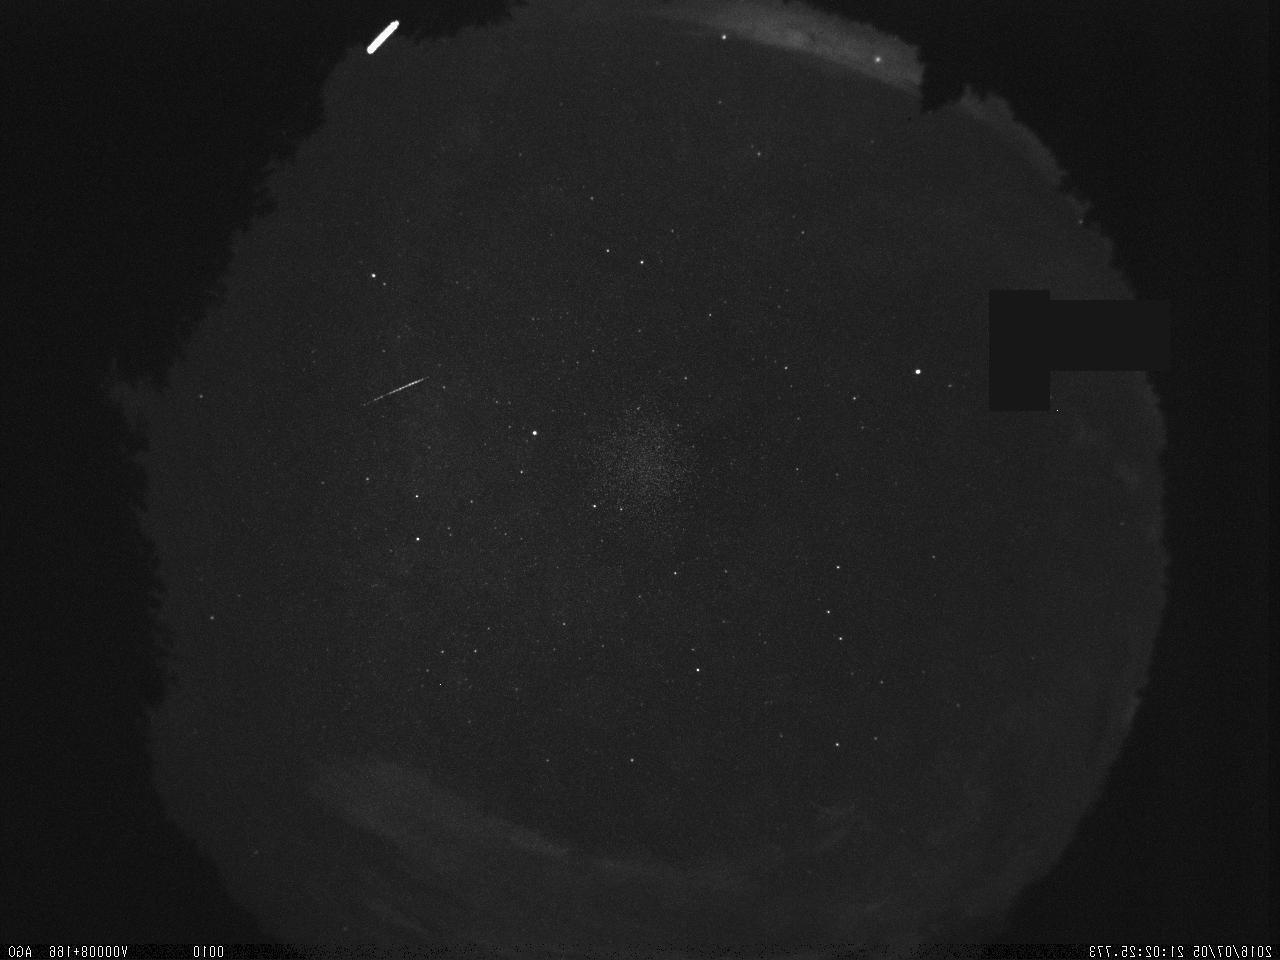meteor: (348, 366, 435, 413)
satelite: (357, 13, 404, 64)
